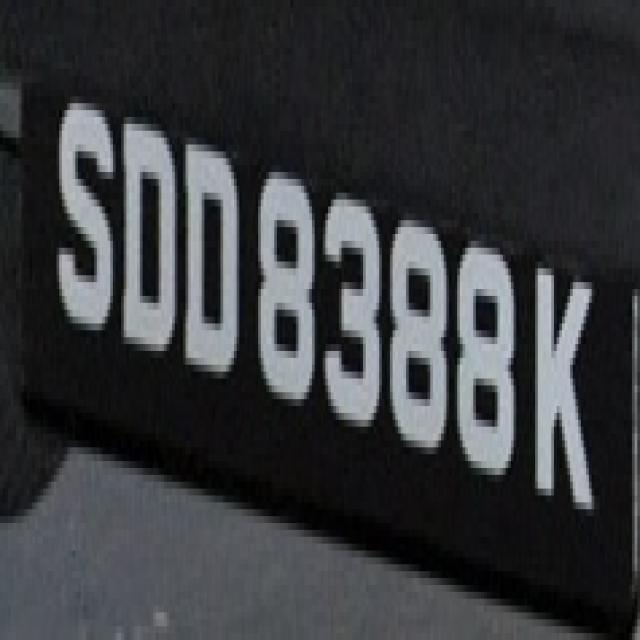3: (312, 172, 384, 427)
8: (446, 220, 524, 475), (376, 200, 449, 454), (245, 152, 318, 406)
D: (112, 96, 178, 351), (180, 124, 245, 378)
K: (522, 241, 600, 502)
S: (51, 82, 116, 330)
